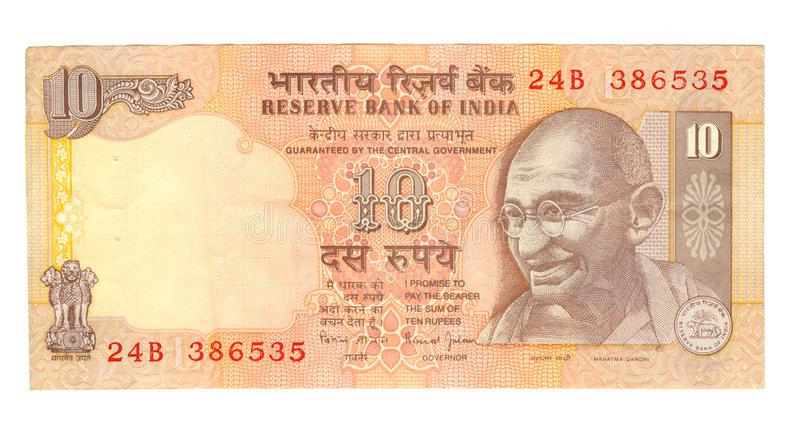ten_rupees_note: (24, 42, 767, 388)
